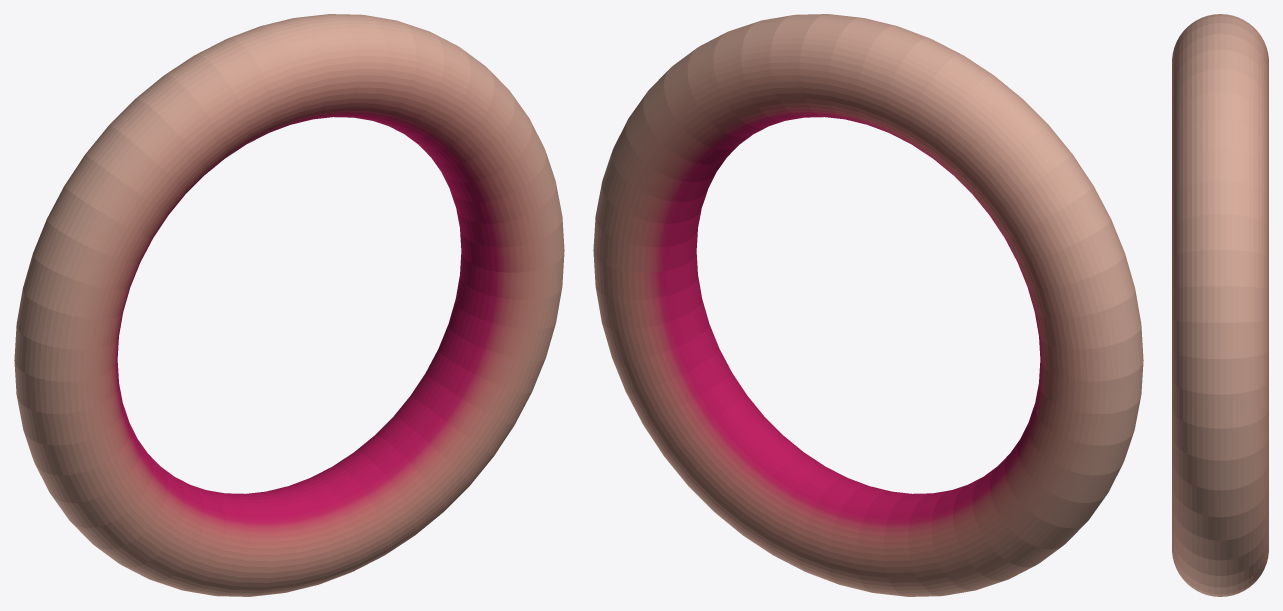
The picture shows the model from 3 angles, left to right: view 1: azimuth 30°, elevation 25°; view 2: azimuth 150°, elevation 25°; view 3: azimuth 270°, elevation 25°; orthographic projection. The views are drawn at different scales.
Parts seen in each view (by area): view 1: world; view 2: world; view 3: world.
Part boxes in pixels (x1=…): world: x1=14, y1=14, x2=564, y2=596; world: x1=593, y1=14, x2=1143, y2=596; world: x1=1172, y1=14, x2=1268, y2=596.
Bounding box in the file's own units: 34.4 × 34.33 × 5.72.
